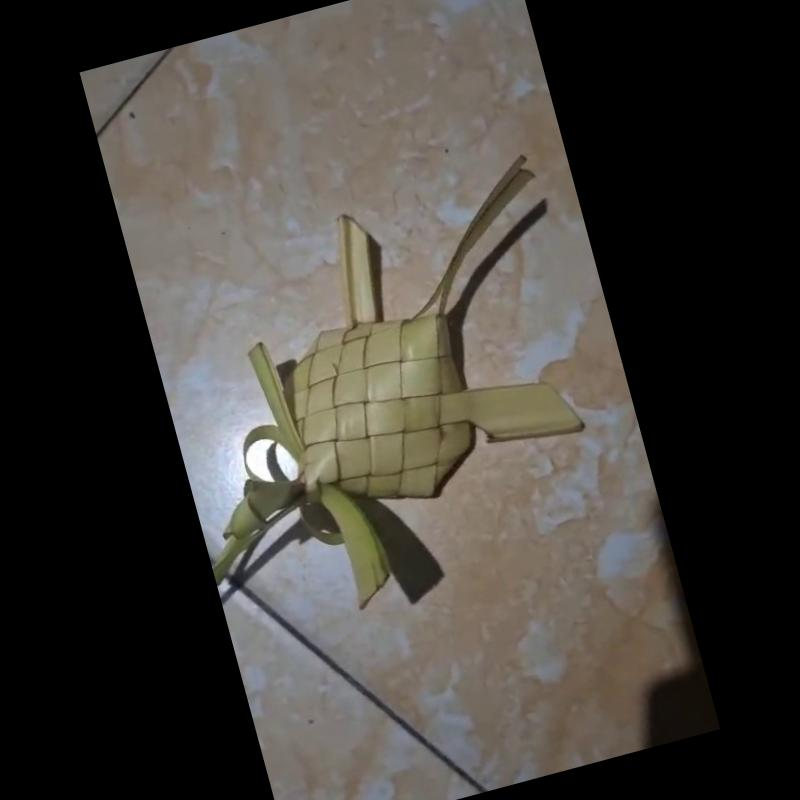Tipat Dampulan: (211, 155, 597, 615)
